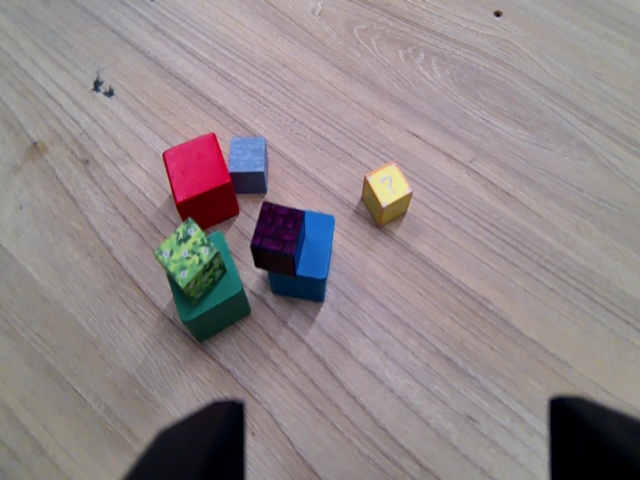brick: (246, 197, 308, 279)
grass: (146, 217, 228, 309)
lucky: (354, 153, 416, 231)
stone: (219, 130, 271, 196)
